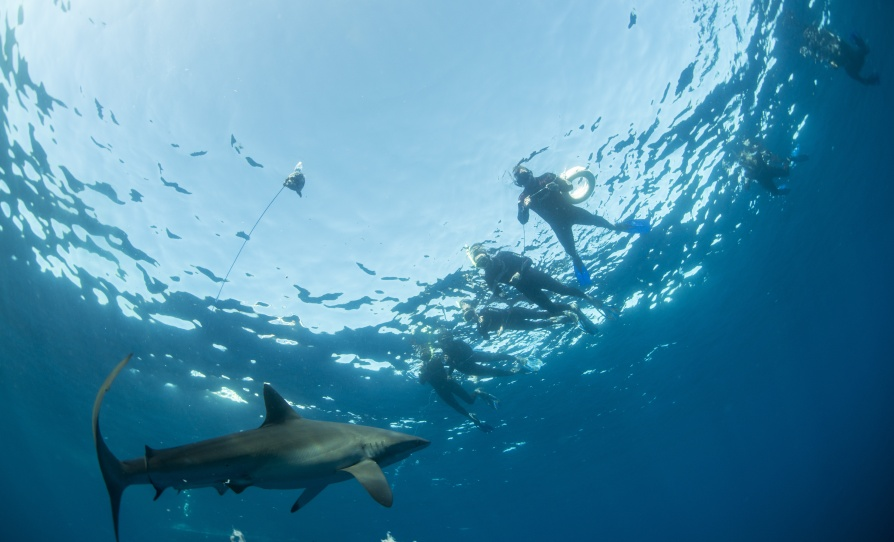Sedoso: (84, 344, 442, 542)
